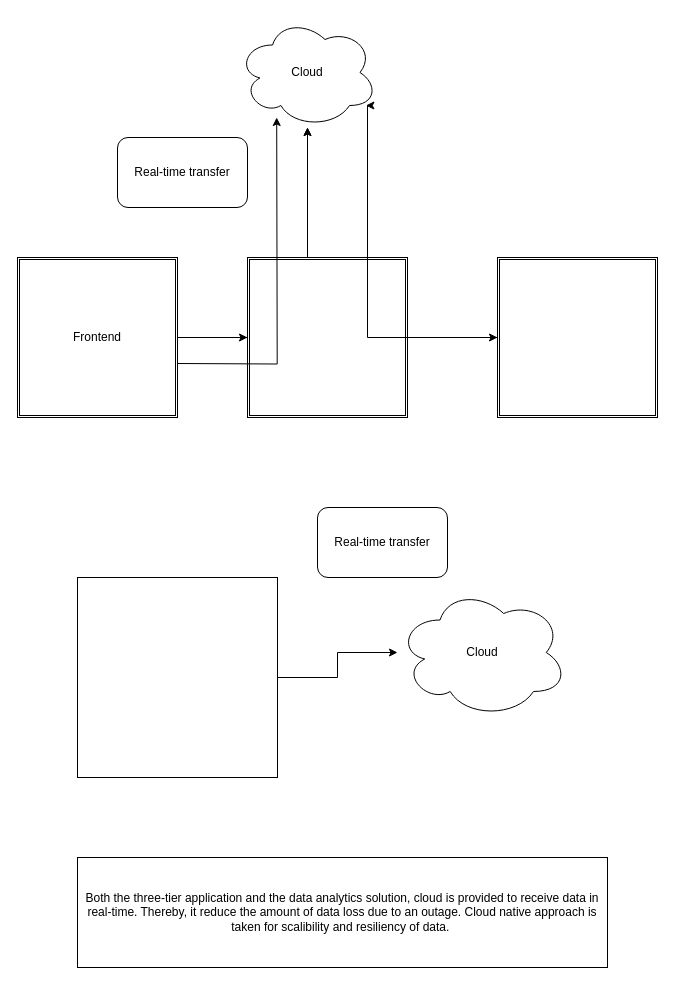
Some shapes in this 675 by 985 pixel diagram are drawn without their labels. The shapes that lost their labels are listed below. From the top down, each one's centre as x and y in pixels, then its label:
At pixel 327 337: "Backend".
At pixel 577 337: "Database".
At pixel 177 677: "Apache Hadoop".
